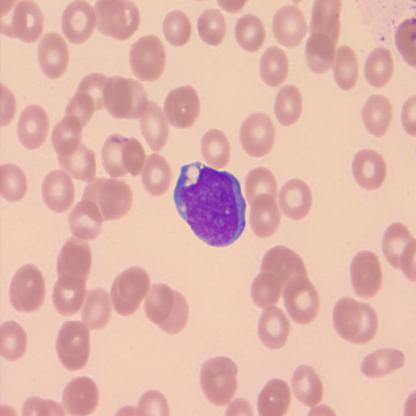Blast: (172, 159, 248, 250)
